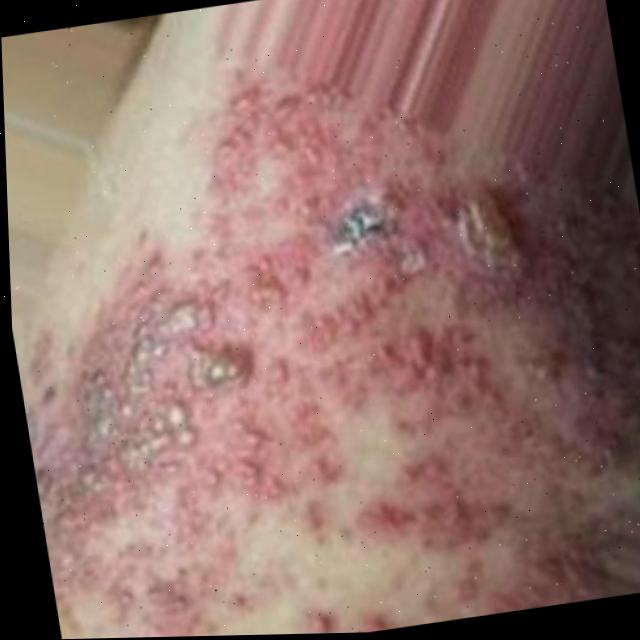Shingles: (1, 15, 640, 640)
